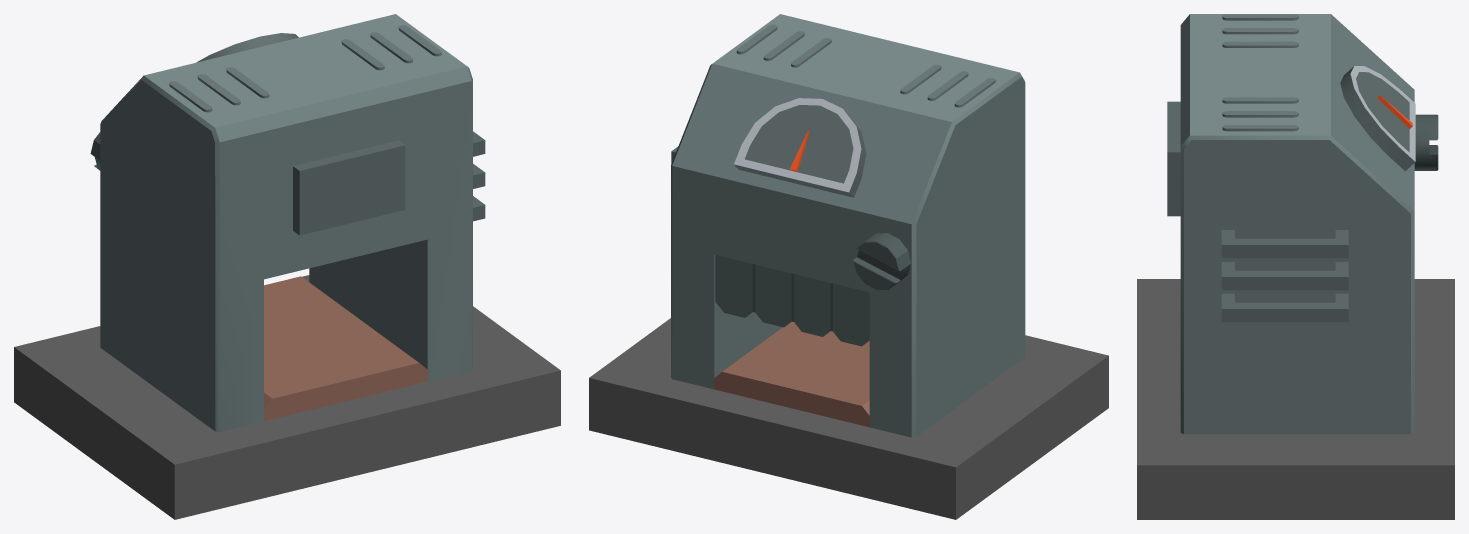
Rendered from mech_4.fbx.
3 views of the same model, side by side, from view 1: azimuth 30°, elevation 25°; view 2: azimuth 150°, elevation 25°; view 3: azimuth 270°, elevation 25° (orthographic). The views are drawn at different scales.
Visible parts, largest first — view 1: 平面; view 2: 平面; view 3: 平面.
Part boxes in pixels (x1,y1,x2,y2): 平面: (14,14,560,519); 平面: (589,14,1108,519); 平面: (1137,14,1454,519).
Size of the model in its own units: 125 by 111 by 90.21.
